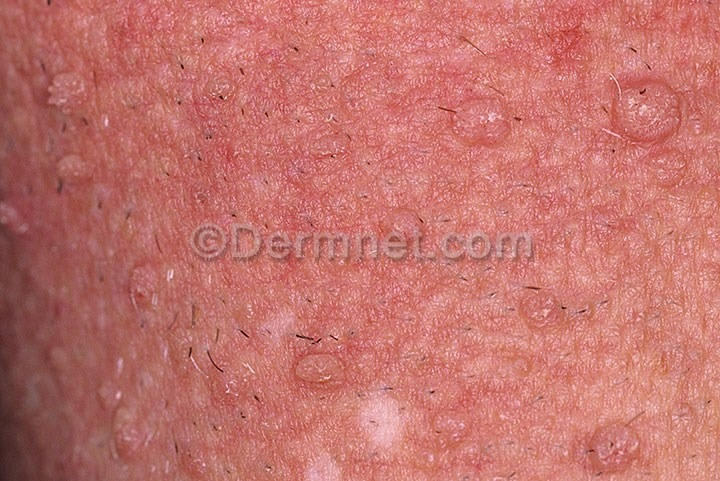Warts: (605, 61, 700, 202), (431, 85, 524, 156), (574, 409, 657, 479), (39, 65, 97, 120)
